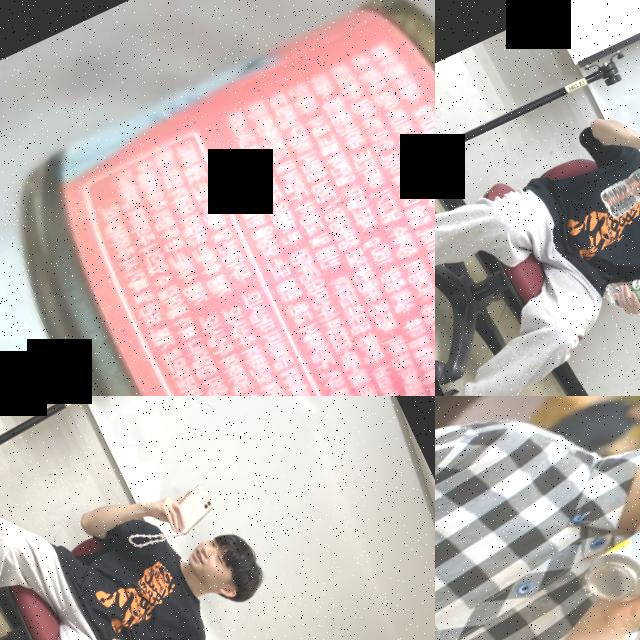bottle: (594, 152, 640, 221), (599, 260, 640, 321)
can: (568, 483, 640, 616)
